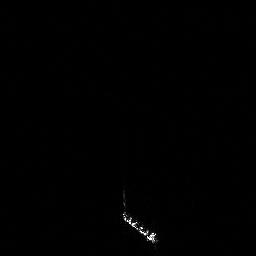ship: (118, 206, 161, 248)
